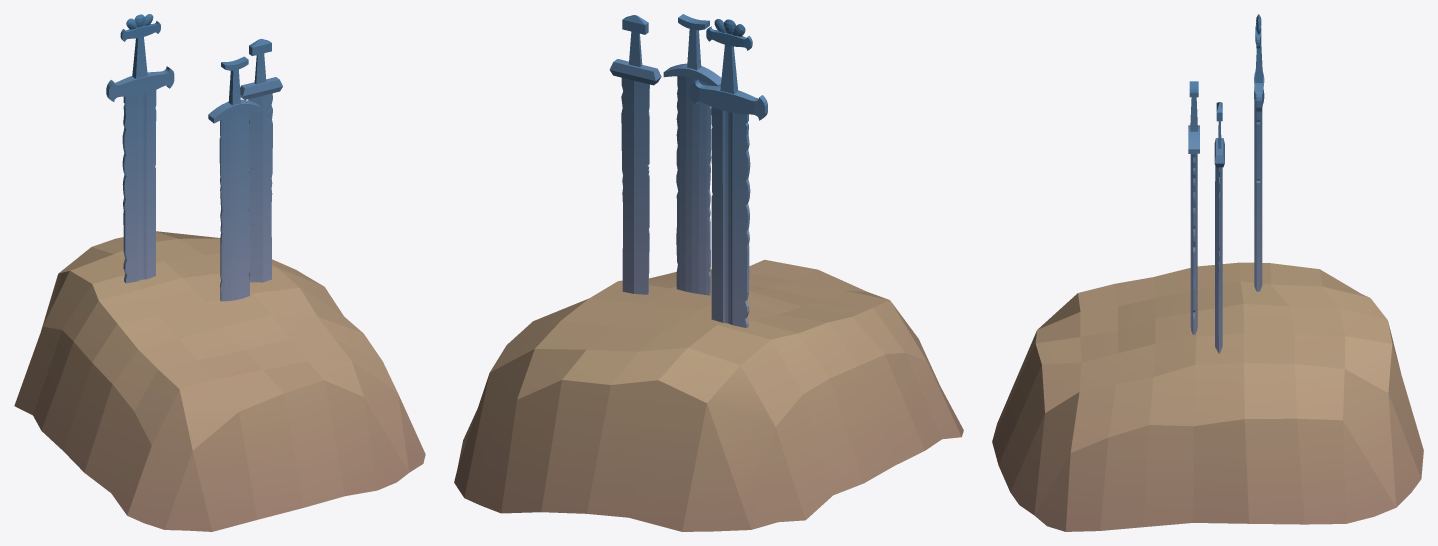
File: Sword.fbx
3 views of the same model, side by side, from view 1: azimuth 30°, elevation 25°; view 2: azimuth 150°, elevation 25°; view 3: azimuth 270°, elevation 25° (orthographic). The views are drawn at different scales.
Visible parts, largest first — view 1: Sword; view 2: Sword; view 3: Sword.
Boxes of the visible parts, x1,y1,x2,y2 form: Sword: [14, 14, 425, 531]; Sword: [454, 14, 963, 531]; Sword: [992, 14, 1423, 531].
Bounding box in the file's own units: 1.37 × 1.68 × 1.56.
1 material, 1 textured.
